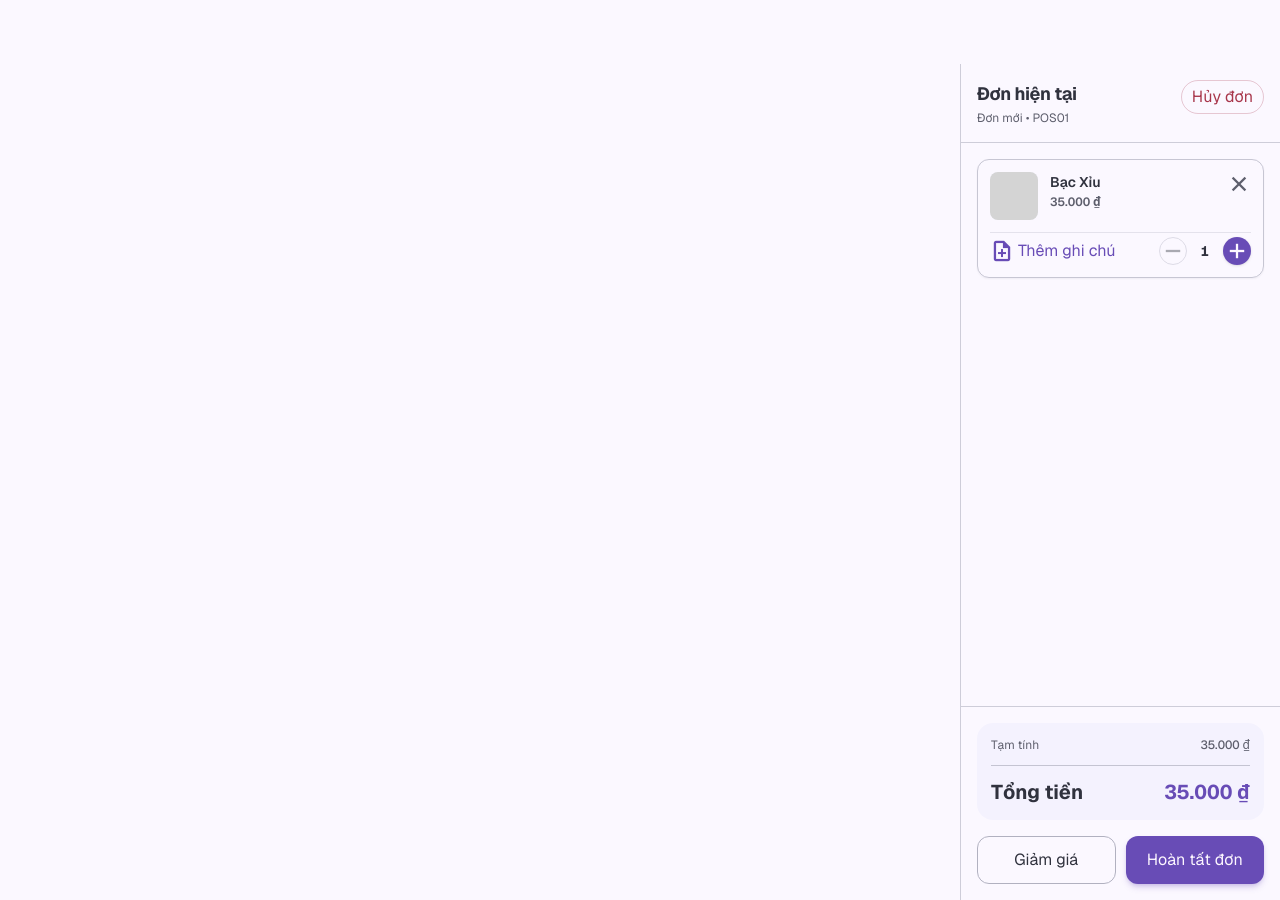
Test: CartPanel discount modal › Bỏ giảm giá button not visible when no discount yet
Click the button "Giảm giá": (1046, 860) [977,836,1116,884]
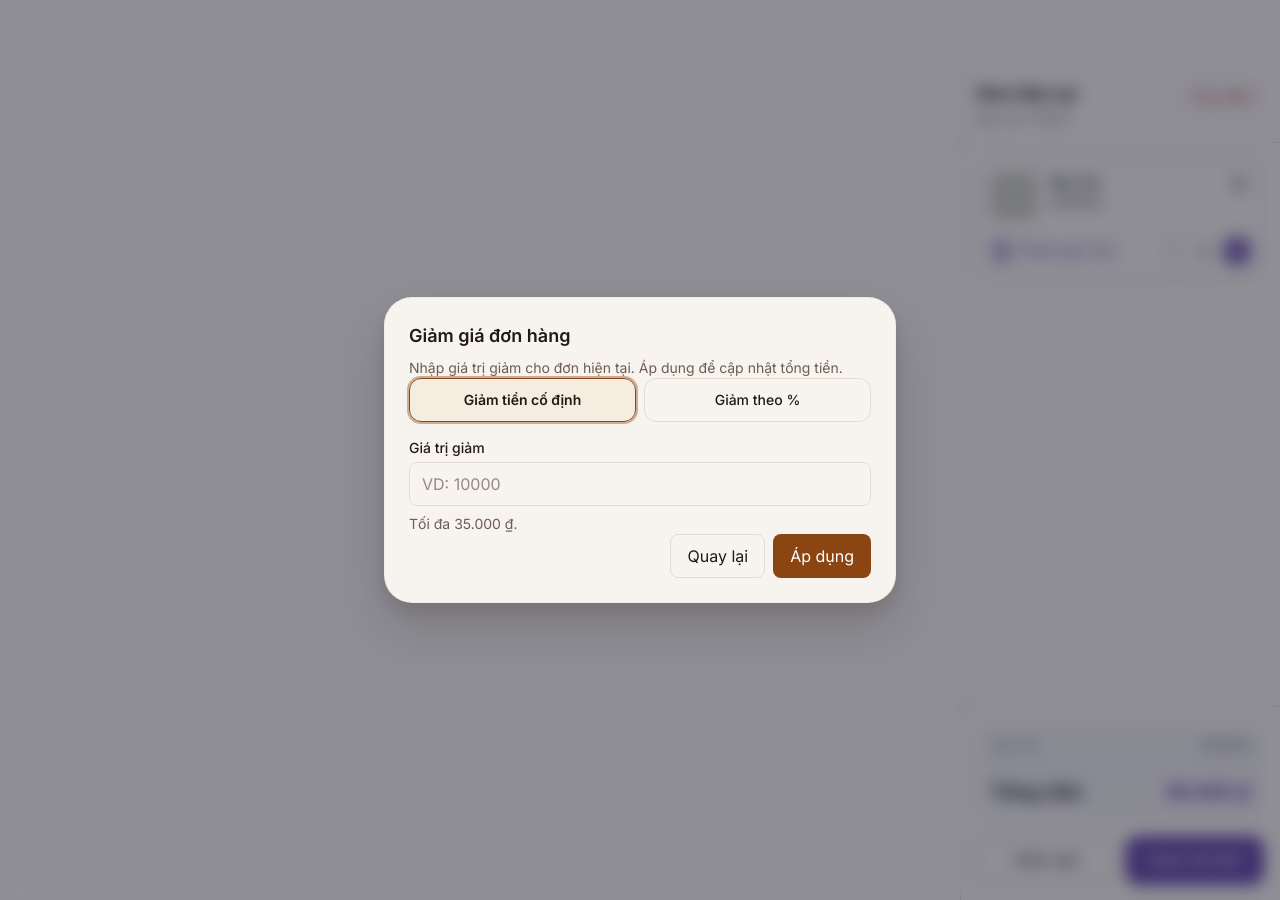
Check: the dialog is shown, box [384,297,896,603]
